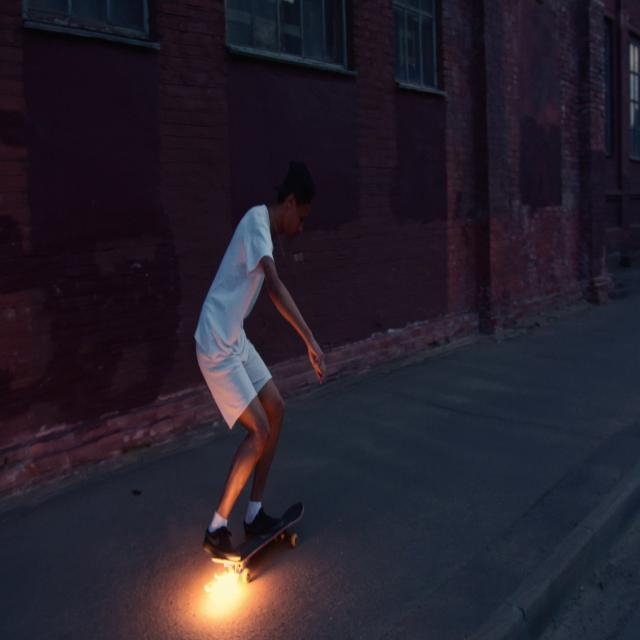Fire: (205, 562, 255, 612)
